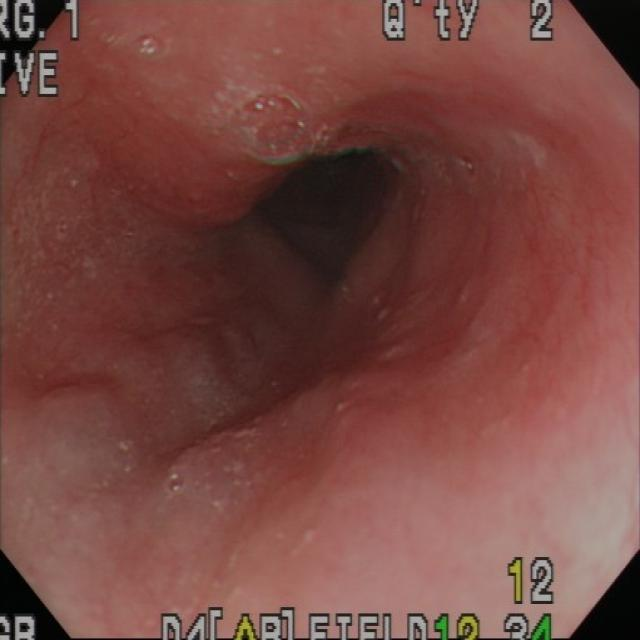E: (220, 134, 413, 301)
S: (160, 608, 483, 640), (383, 3, 558, 45), (3, 3, 83, 45), (3, 50, 63, 101), (507, 558, 556, 608), (506, 614, 556, 640), (2, 614, 39, 640)
T: (2, 164, 150, 314), (204, 73, 343, 165), (130, 31, 171, 64), (455, 151, 485, 189), (161, 467, 190, 500)
